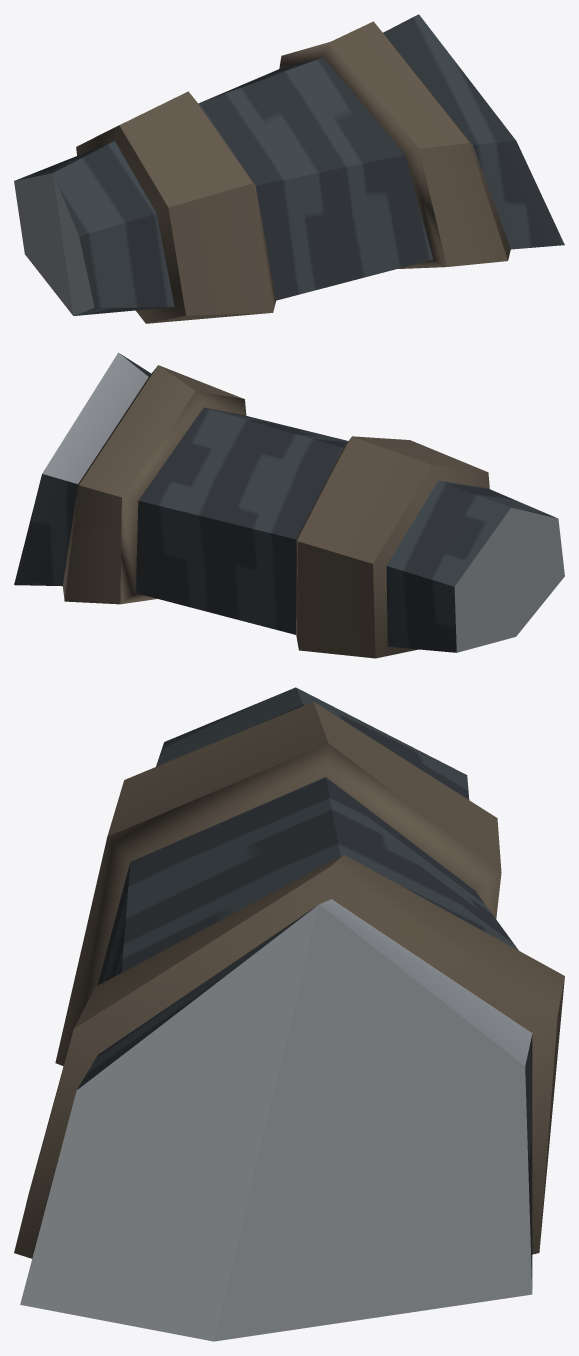
The model's file is Chr_ArmUpperRight_Male_02_Static.fbx.
The picture shows the model from 3 angles, top to bottom: view 1: azimuth 30°, elevation 25°; view 2: azimuth 150°, elevation 25°; view 3: azimuth 270°, elevation 25°; orthographic projection. The views are drawn at different scales.
Parts seen in each view (by area): view 1: Chr_ArmUpperRight_Male_02_Static; view 2: Chr_ArmUpperRight_Male_02_Static; view 3: Chr_ArmUpperRight_Male_02_Static.
Part boxes in pixels (x1,y1,x2,y2): Chr_ArmUpperRight_Male_02_Static: (14, 14, 564, 323); Chr_ArmUpperRight_Male_02_Static: (14, 352, 564, 658); Chr_ArmUpperRight_Male_02_Static: (14, 687, 564, 1341).
Size of the model in its own units: 0.3204 by 0.1613 by 0.1867.
